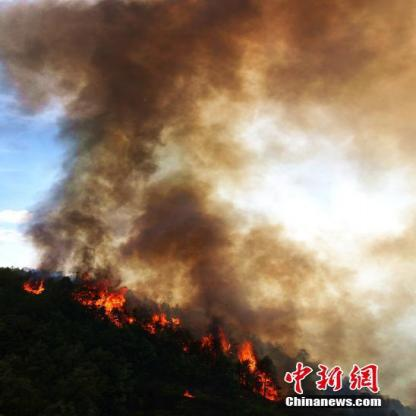fire: (195, 316, 283, 404), (72, 276, 180, 335), (18, 271, 50, 297)
smoke: (45, 2, 242, 266)
